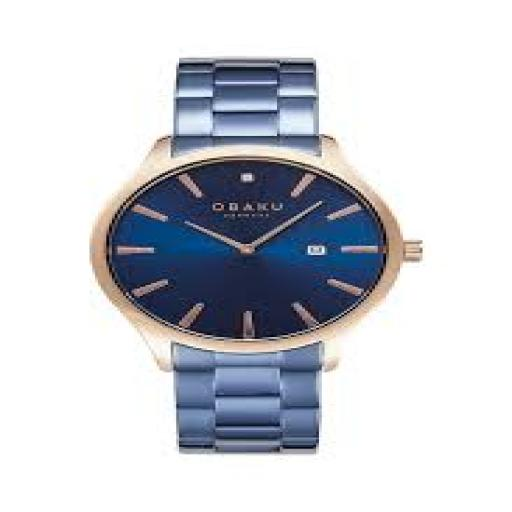KolSaati: (64, 36, 444, 467)
